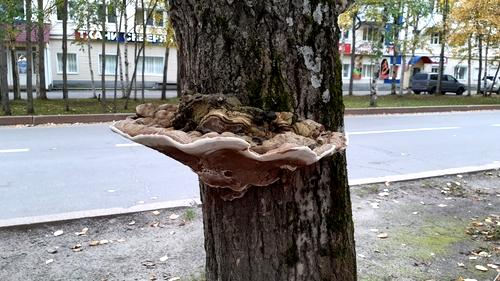Ganoderma - Fruit Body: (111, 94, 346, 191)
